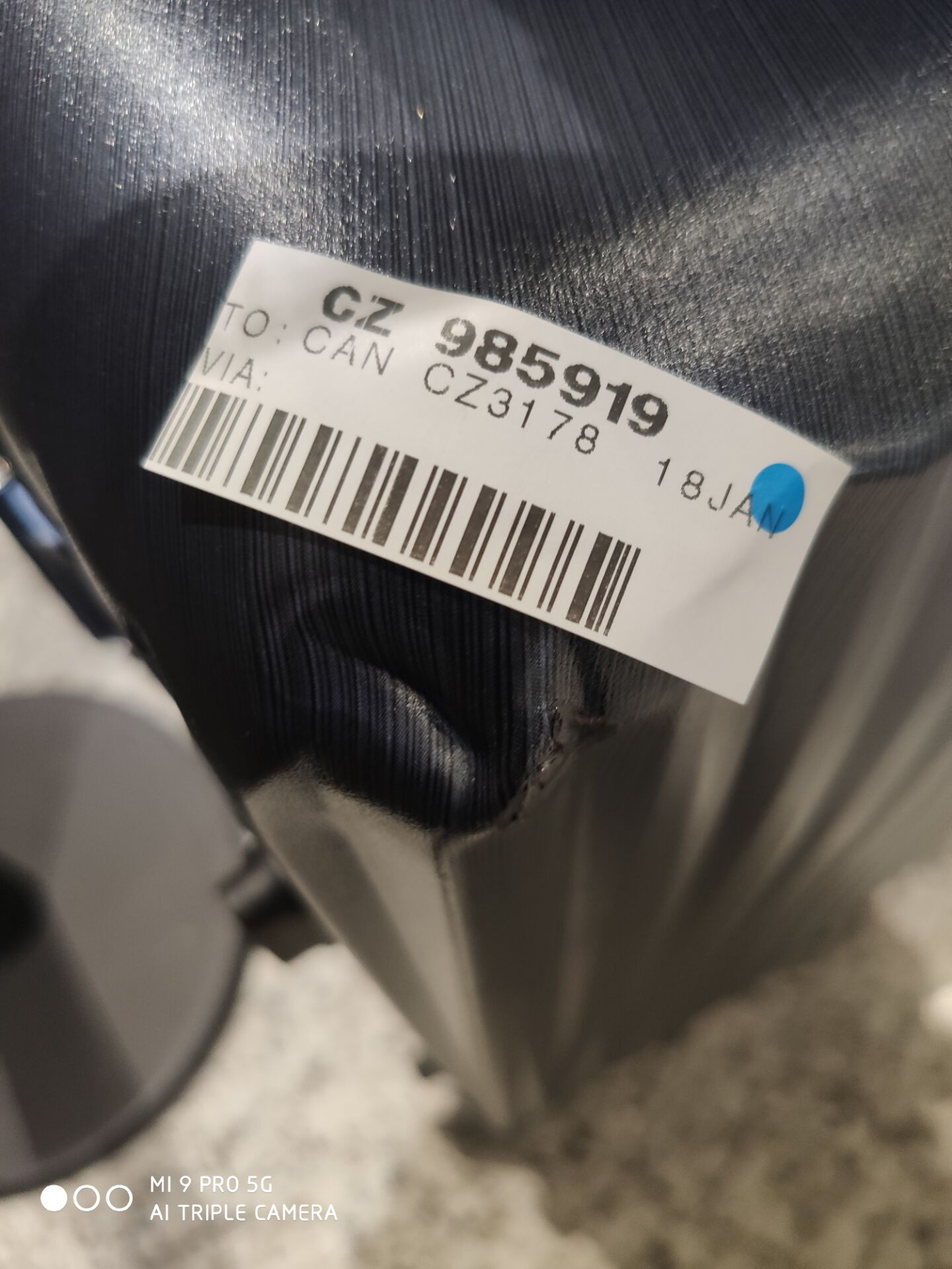rupture: (255, 568, 536, 835)
